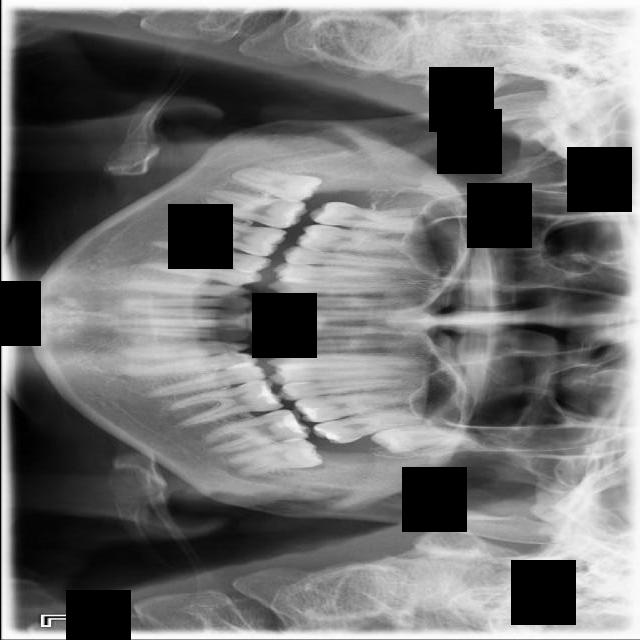52: (258, 396, 314, 454), (231, 373, 284, 421), (291, 393, 348, 426), (310, 416, 364, 449)
73: (54, 595, 65, 604)
BioHorizons Implant: (310, 405, 426, 449)
BioLife Implant: (369, 422, 477, 454)
Biomet 3i Implant: (227, 434, 324, 479)
Blue Sky Bio Implant: (199, 404, 311, 458)
Caries: (307, 199, 439, 236)
Implant: (198, 186, 308, 233)
Keystone Dental Implant: (227, 163, 322, 205)
